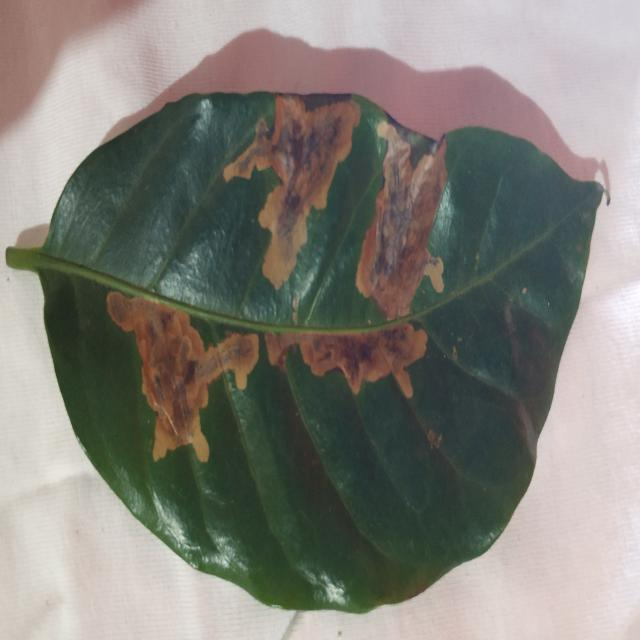Plaga-Minador: (4, 91, 610, 616)
